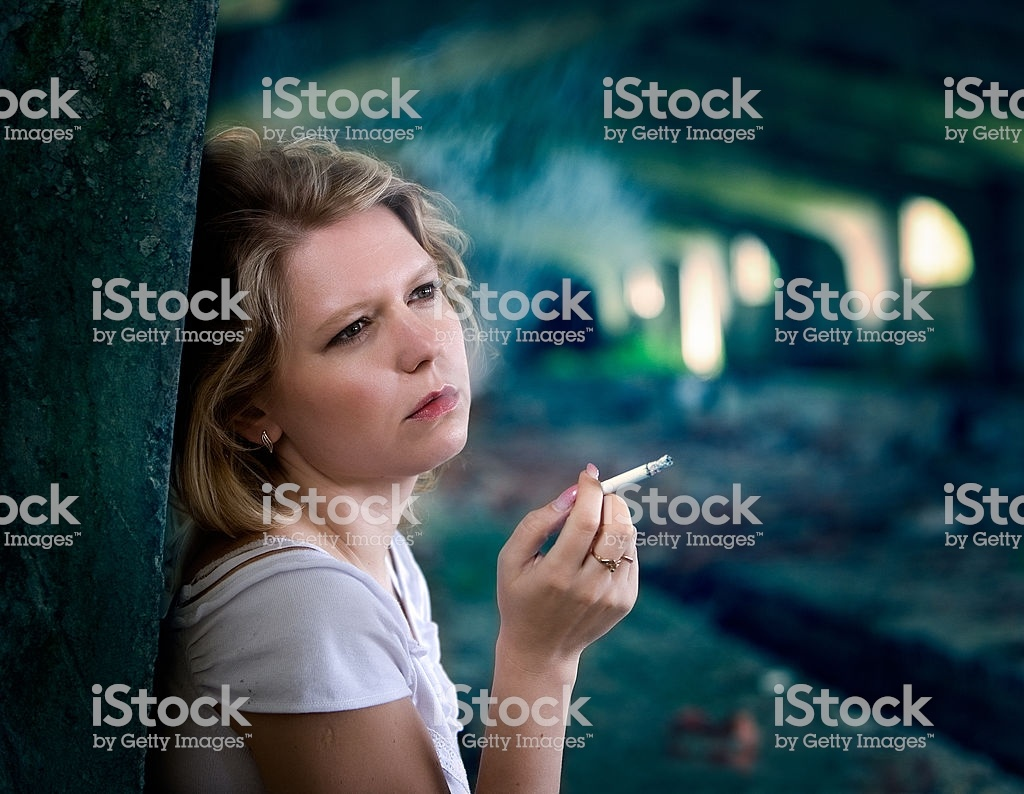sigaretta: (577, 450, 671, 500)
